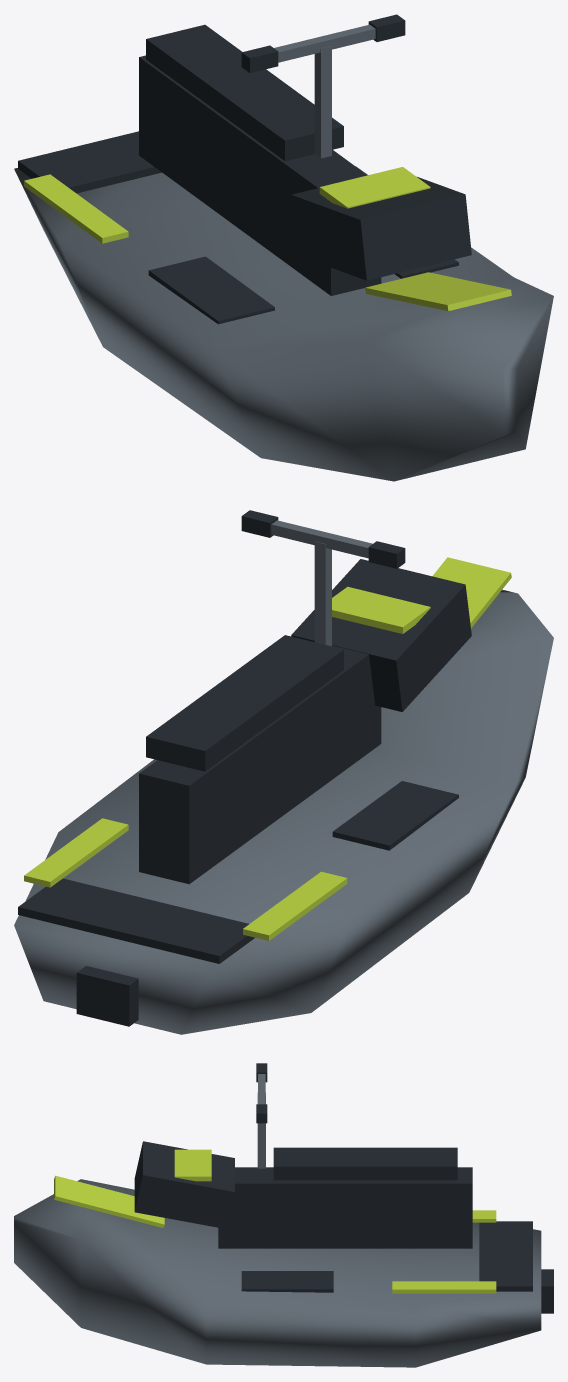
Rendered from jetski.glb.
The picture shows the model from 3 angles, top to bottom: view 1: azimuth 30°, elevation 25°; view 2: azimuth 150°, elevation 25°; view 3: azimuth 270°, elevation 25°; orthographic projection. The views are drawn at different scales.
Visible parts, largest first — view 1: body.hull, body.spine, body.console, seat.cushion, rear.deck, foot.platform, bow.accent, rear.accent, console.accent, handlebar.stem, handlebar.cross, grip (×2); view 2: body.hull, body.spine, seat.cushion, body.console, rear.deck, rear.accent (×2), foot.platform, jet.outlet, console.accent, bow.accent, handlebar.stem, handlebar.cross (+1 smaller); view 3: body.hull, body.spine, seat.cushion, body.console, rear.deck, bow.accent, foot.platform, rear.accent, console.accent, jet.outlet, handlebar.stem.
Boxes of the visible parts, <box> form: body.hull: <box>14,166,553,481</box>; body.spine: <box>139,55,381,295</box>; body.console: <box>291,177,471,280</box>; seat.cushion: <box>146,24,343,161</box>; rear.deck: <box>18,131,161,193</box>; foot.platform: <box>148,256,274,324</box>; bow.accent: <box>365,272,511,311</box>; rear.accent: <box>24,174,128,243</box>; console.accent: <box>319,167,430,208</box>; handlebar.stem: <box>314,45,331,158</box>; handlebar.cross: <box>274,24,375,62</box>; grip (×2): <box>241,14,405,72</box>; body.hull: <box>14,589,553,1034</box>; body.spine: <box>139,645,381,884</box>; seat.cushion: <box>146,635,343,771</box>; body.console: <box>291,559,471,711</box>; rear.deck: <box>18,878,254,963</box>; rear.accent (×2): <box>24,818,347,940</box>; foot.platform: <box>332,781,458,850</box>; jet.outlet: <box>76,966,138,1026</box>; console.accent: <box>332,586,430,633</box>; bow.accent: <box>432,557,511,628</box>; handlebar.stem: <box>314,541,331,646</box>; handlebar.cross: <box>271,520,372,558</box>; body.hull: <box>14,1179,541,1367</box>; body.spine: <box>218,1167,472,1248</box>; seat.cushion: <box>273,1147,457,1180</box>; body.console: <box>134,1141,234,1229</box>; rear.deck: <box>479,1221,532,1291</box>; bow.accent: <box>54,1175,164,1227</box>; foot.platform: <box>241,1271,333,1292</box>; rear.accent: <box>392,1281,496,1293</box>; console.accent: <box>174,1149,211,1181</box>; jet.outlet: <box>541,1269,553,1313</box>; handlebar.stem: <box>257,1092,265,1168</box>.
Bounding box in the file's own units: 1.36 × 1.62 × 3.23.
